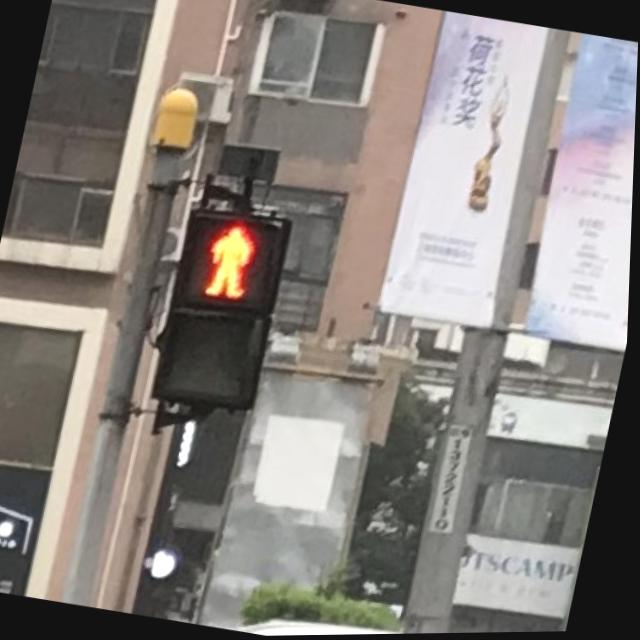red_light: (176, 207, 284, 309)
